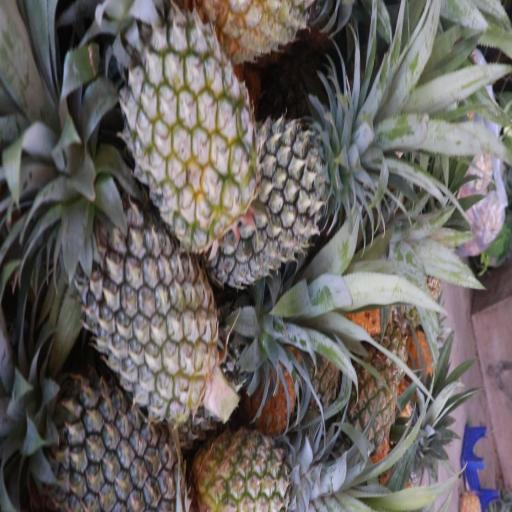------------------------------: (121, 14, 256, 230), (194, 417, 325, 512)
